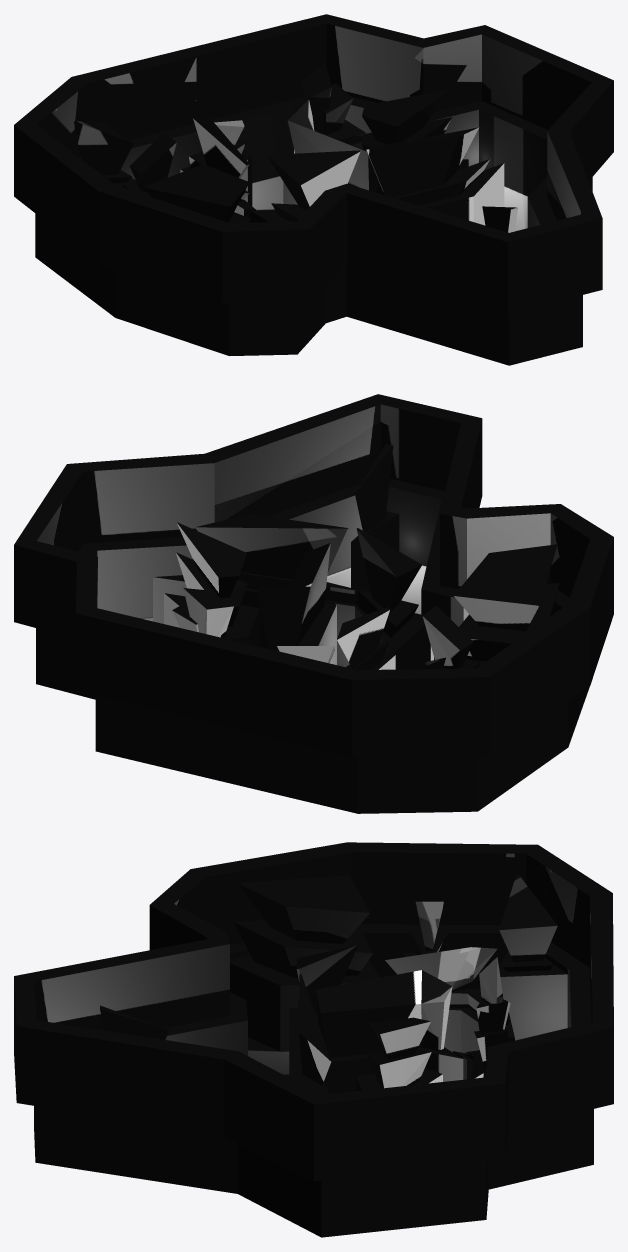
The model's file is level3_5.fbx.
3 renders of one model, top to bottom at view 1: azimuth 30°, elevation 25°; view 2: azimuth 150°, elevation 25°; view 3: azimuth 270°, elevation 25°, orthographic. The views are drawn at different scales.
Visible parts, largest first — view 1: 3-5_upper_wall, 3-5_lower_wall, 3-5_pillar_darkblue_top, 3-5_pillar_pink_top, 3-5_pillar_skyblue_top, 3-5_pillar_blue_top, 3-5_pillar_darkblue, 3-5_pillar_turquoise_top, 3-5_pillar_red_top, 3-5_pillar_orange_top, 3-5_pillar_yellow_top, 3-5_floor (+2 smaller); view 2: 3-5_upper_wall, 3-5_lower_wall, 3-5_pillar_darkblue_top, 3-5_pillar_pink_top, 3-5_pillar_orange_top, 3-5_pillar_darkblue, 3-5_pillar_skyblue_top, 3-5_pillar_turquoise_top, 3-5_pillar_blue_top, 3-5_pillar_yellow_top, 3-5_pillar_purple_top, 3-5_pillar_skyblue (+3 smaller); view 3: 3-5_upper_wall, 3-5_lower_wall, 3-5_pillar_pink_top, 3-5_pillar_orange_top, 3-5_pillar_pink, 3-5_pillar_darkblue_top, 3-5_pillar_turquoise_top, 3-5_pillar_red, 3-5_pillar_red_top, 3-5_pillar_skyblue_top, 3-5_pillar_orange, 3-5_pillar_blue_top (+6 smaller).
Boxes of the visible parts, x1=… form: 3-5_upper_wall: x1=14, y1=14, x2=613, y2=313; 3-5_lower_wall: x1=35, y1=96, x2=592, y2=365; 3-5_pillar_darkblue_top: x1=267, y1=127, x2=489, y2=221; 3-5_pillar_pink_top: x1=143, y1=164, x2=251, y2=222; 3-5_pillar_skyblue_top: x1=361, y1=89, x2=451, y2=150; 3-5_pillar_blue_top: x1=301, y1=63, x2=365, y2=143; 3-5_pillar_darkblue: x1=250, y1=163, x2=504, y2=225; 3-5_pillar_turquoise_top: x1=189, y1=118, x2=249, y2=201; 3-5_pillar_red_top: x1=74, y1=121, x2=133, y2=183; 3-5_pillar_orange_top: x1=287, y1=99, x2=379, y2=192; 3-5_pillar_yellow_top: x1=122, y1=133, x2=176, y2=196; 3-5_floor: x1=252, y1=176, x2=527, y2=231; 3-5_upper_wall: x1=14, y1=394, x2=613, y2=757; 3-5_lower_wall: x1=36, y1=478, x2=590, y2=813; 3-5_pillar_darkblue_top: x1=179, y1=514, x2=421, y2=637; 3-5_pillar_pink_top: x1=454, y1=544, x2=559, y2=661; 3-5_pillar_orange_top: x1=257, y1=543, x2=330, y2=651; 3-5_pillar_darkblue: x1=153, y1=575, x2=433, y2=669; 3-5_pillar_skyblue_top: x1=175, y1=522, x2=247, y2=627; 3-5_pillar_turquoise_top: x1=277, y1=606, x2=389, y2=670; 3-5_pillar_blue_top: x1=172, y1=588, x2=233, y2=638; 3-5_pillar_yellow_top: x1=422, y1=605, x2=481, y2=668; 3-5_pillar_purple_top: x1=355, y1=444, x2=393, y2=531; 3-5_pillar_skyblue: x1=164, y1=593, x2=260, y2=646; 3-5_upper_wall: x1=14, y1=842, x2=613, y2=1181; 3-5_lower_wall: x1=34, y1=924, x2=593, y2=1237; 3-5_pillar_pink_top: x1=234, y1=875, x2=372, y2=977; 3-5_pillar_orange_top: x1=315, y1=970, x2=452, y2=1058; 3-5_pillar_pink: x1=230, y1=955, x2=379, y2=1051; 3-5_pillar_darkblue_top: x1=296, y1=944, x2=358, y2=1094; 3-5_pillar_turquoise_top: x1=385, y1=947, x2=509, y2=1029; 3-5_pillar_red: x1=499, y1=950, x2=567, y2=1040; 3-5_pillar_red_top: x1=499, y1=872, x2=557, y2=971; 3-5_pillar_skyblue_top: x1=367, y1=1017, x2=431, y2=1088; 3-5_pillar_orange: x1=324, y1=1047, x2=463, y2=1093; 3-5_pillar_blue_top: x1=465, y1=1001, x2=510, y2=1078.
Bounding box in the file's own units: 9.32 × 2.46 × 9.01.
21 materials, 21 textured.
